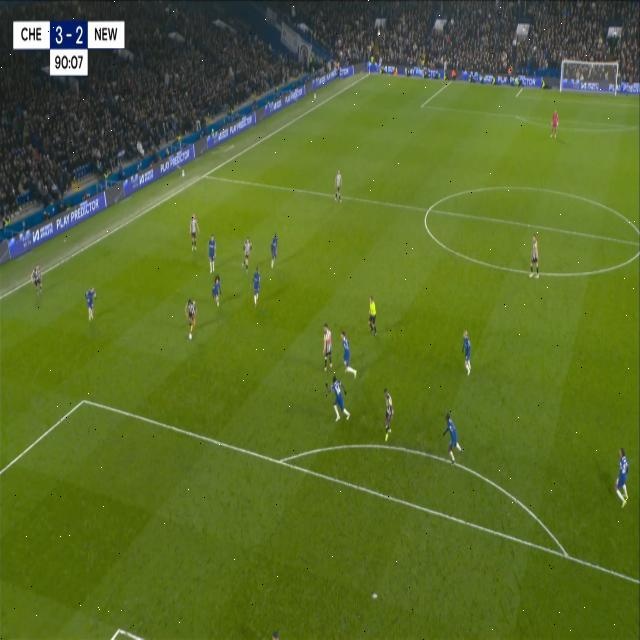Ball: (188, 330, 194, 343)
Chelsea: (324, 371, 352, 428), (440, 406, 464, 469), (612, 441, 632, 511), (338, 330, 361, 386), (458, 326, 474, 380), (82, 281, 98, 327), (267, 229, 280, 274), (212, 272, 224, 314), (252, 264, 262, 310), (208, 231, 216, 278)
Newcastle: (319, 319, 336, 376), (381, 384, 397, 444), (528, 231, 540, 283), (187, 209, 202, 249), (31, 258, 44, 302), (242, 232, 254, 275), (333, 164, 344, 206), (186, 293, 196, 334)
Newcastle Keeper: (550, 106, 561, 146)
Refree: (364, 290, 380, 339)
